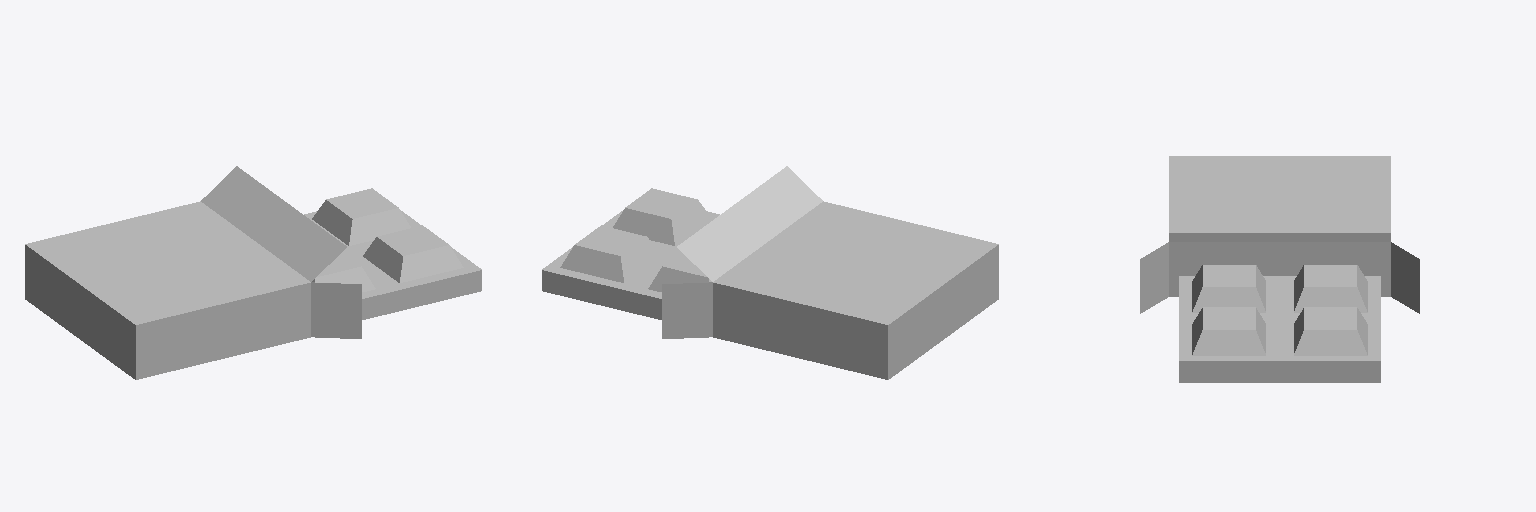
File: chocolate-wrapper.obj
3 views of the same model, side by side, from view 1: azimuth 30°, elevation 25°; view 2: azimuth 150°, elevation 25°; view 3: azimuth 270°, elevation 25° (orthographic).
Parts seen in each view (by area): view 1: chocolate-wrapper; view 2: chocolate-wrapper; view 3: chocolate-wrapper.
Part boxes in pixels (bbox=[...]): chocolate-wrapper: bbox=[25, 166, 481, 379]; chocolate-wrapper: bbox=[542, 166, 998, 379]; chocolate-wrapper: bbox=[1140, 156, 1419, 382].
Bounding box in the file's own units: 0.2924 × 0.0649 × 0.202.